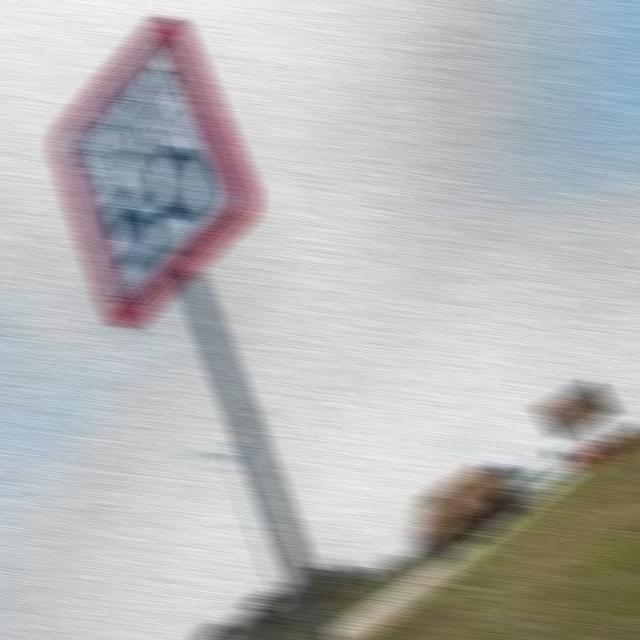speedLimit50: (64, 28, 234, 324)
